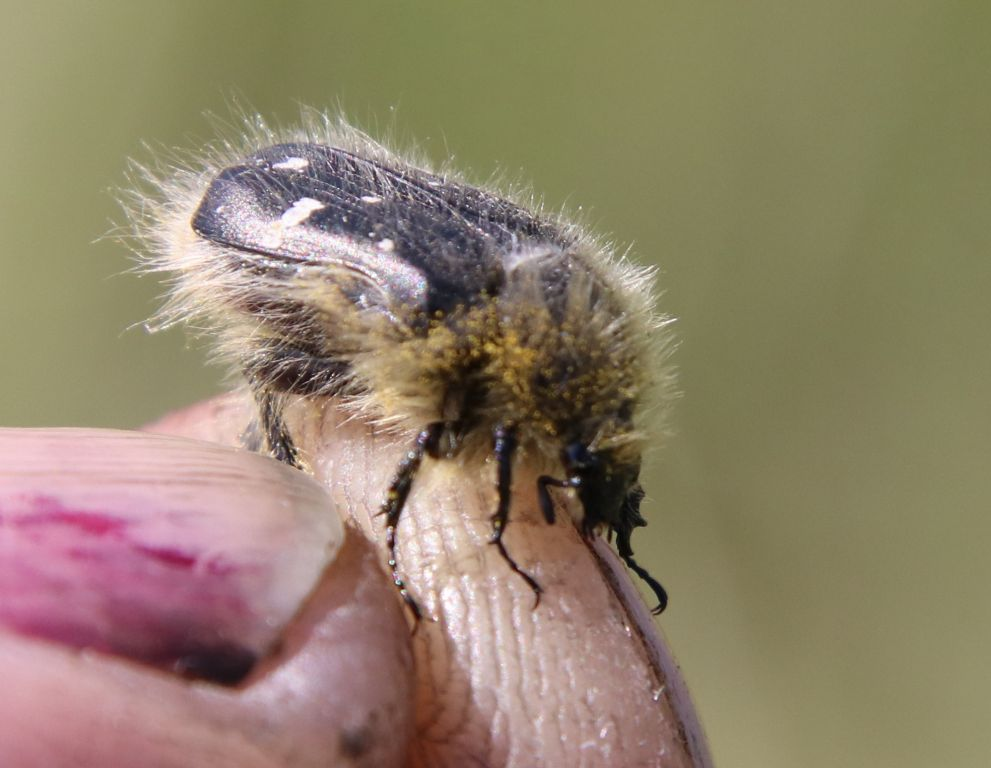Tropinota_hirta: (84, 64, 705, 611)
